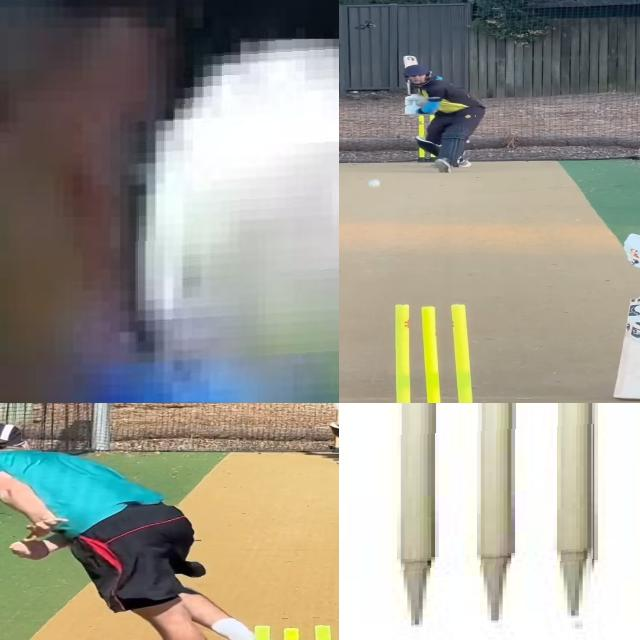Cricket ball: (131, 39, 339, 403), (366, 178, 384, 189), (328, 421, 339, 429)
Stumps: (392, 403, 595, 638), (382, 301, 488, 403)
